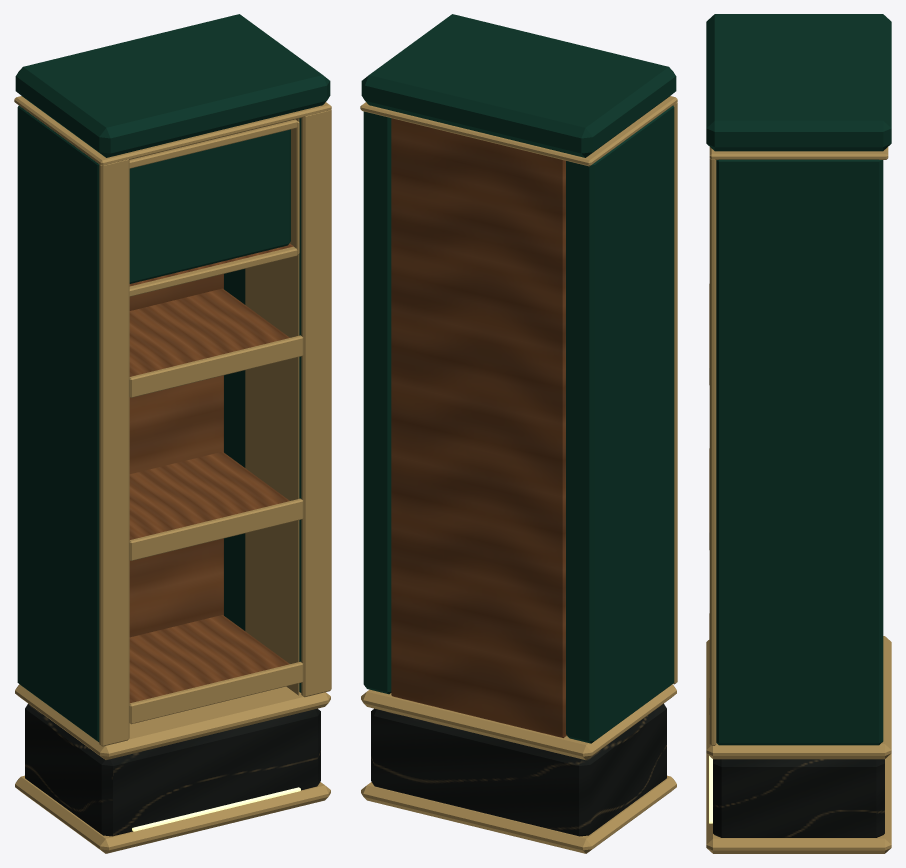
3 views of the same model, side by side, from view 1: azimuth 30°, elevation 25°; view 2: azimuth 150°, elevation 25°; view 3: azimuth 270°, elevation 25° (orthographic).
Visible parts, largest first — view 1: cabinet_left_pillar, cabinet_crown, cabinet_stone_base, brand_header_panel, trim_left_front, trim_right_front, trim_right_inner, cabinet_back, shelf_3, shelf_1, shelf_2, trim_base_top (+10 smaller); view 2: cabinet_back, cabinet_left_pillar, cabinet_crown, cabinet_stone_base, cabinet_right_pillar, trim_base_plinth, trim_base_top, trim_crown_lip, trim_left_front; view 3: cabinet_right_pillar, cabinet_crown, cabinet_stone_base, trim_right_front, trim_base_top, trim_base_plinth, trim_crown_lip.
Boxes of the visible parts, x1=… form: cabinet_left_pillar: x1=17, y1=105, x2=99, y2=742; cabinet_crown: x1=15, y1=14, x2=330, y2=157; cabinet_stone_base: x1=25, y1=703, x2=320, y2=836; brand_header_panel: x1=129, y1=129, x2=290, y2=283; trim_left_front: x1=99, y1=159, x2=129, y2=746; trim_right_front: x1=301, y1=109, x2=331, y2=697; trim_right_inner: x1=245, y1=118, x2=299, y2=695; cabinet_back: x1=129, y1=274, x2=223, y2=637; shelf_3: x1=129, y1=288, x2=289, y2=376; shelf_1: x1=129, y1=615, x2=289, y2=703; shelf_2: x1=129, y1=451, x2=289, y2=539; trim_base_top: x1=15, y1=684, x2=330, y2=759; cabinet_back: x1=391, y1=118, x2=566, y2=737; cabinet_left_pillar: x1=566, y1=105, x2=674, y2=743; cabinet_crown: x1=361, y1=14, x2=676, y2=157; cabinet_stone_base: x1=371, y1=703, x2=666, y2=836; cabinet_right_pillar: x1=363, y1=111, x2=391, y2=694; trim_base_plinth: x1=361, y1=775, x2=676, y2=853; trim_base_top: x1=361, y1=684, x2=676, y2=759; trim_crown_lip: x1=360, y1=96, x2=677, y2=166; trim_left_front: x1=673, y1=102, x2=677, y2=684; cabinet_right_pillar: x1=716, y1=159, x2=883, y2=745; cabinet_crown: x1=706, y1=14, x2=891, y2=151; cabinet_stone_base: x1=713, y1=759, x2=884, y2=837; trim_right_front: x1=709, y1=158, x2=716, y2=745; trim_base_top: x1=706, y1=636, x2=891, y2=759; trim_base_plinth: x1=706, y1=753, x2=891, y2=853; trim_crown_lip: x1=709, y1=147, x2=888, y2=159.
Bounding box in the file's own units: 0.8 × 2.4 × 0.55.
Materials: 5 (2 with a texture image).
